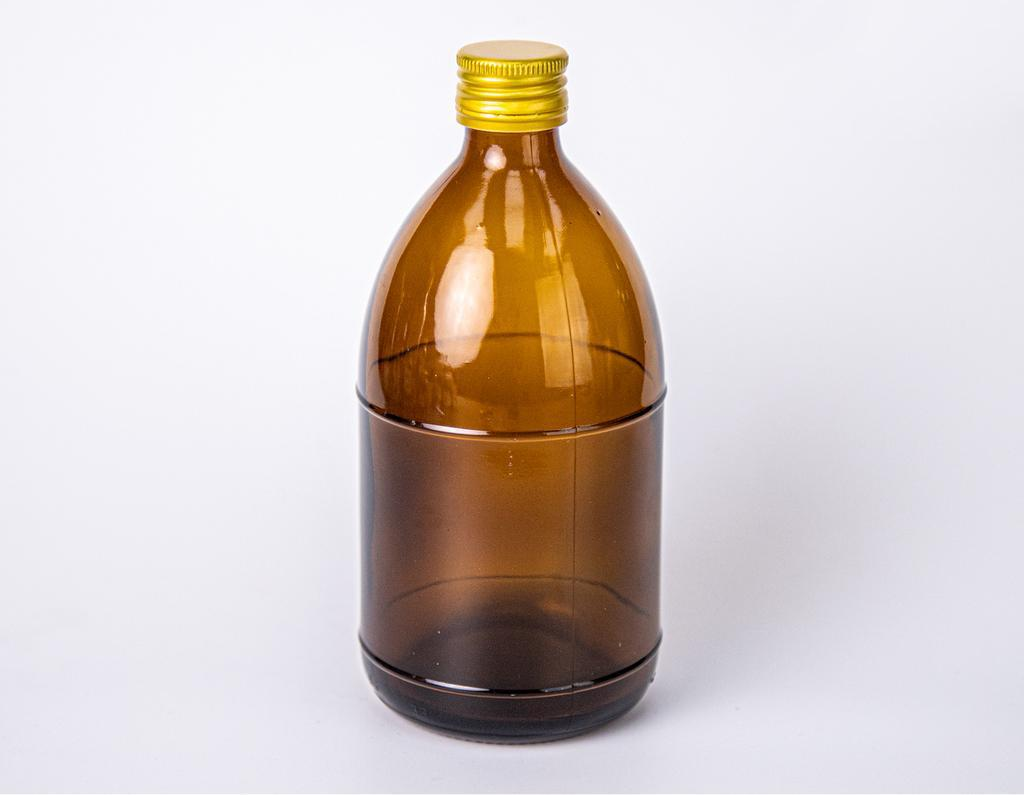glass_bottle: (343, 28, 684, 756)
